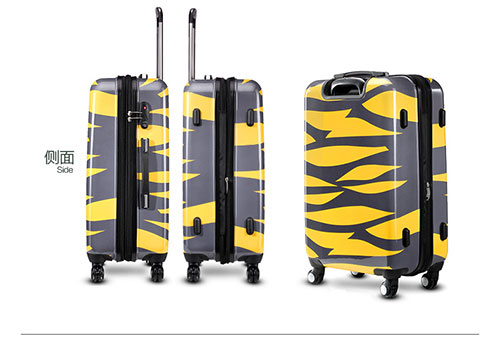suitcase: (303, 70, 450, 300), (84, 4, 171, 285), (179, 6, 266, 287)
